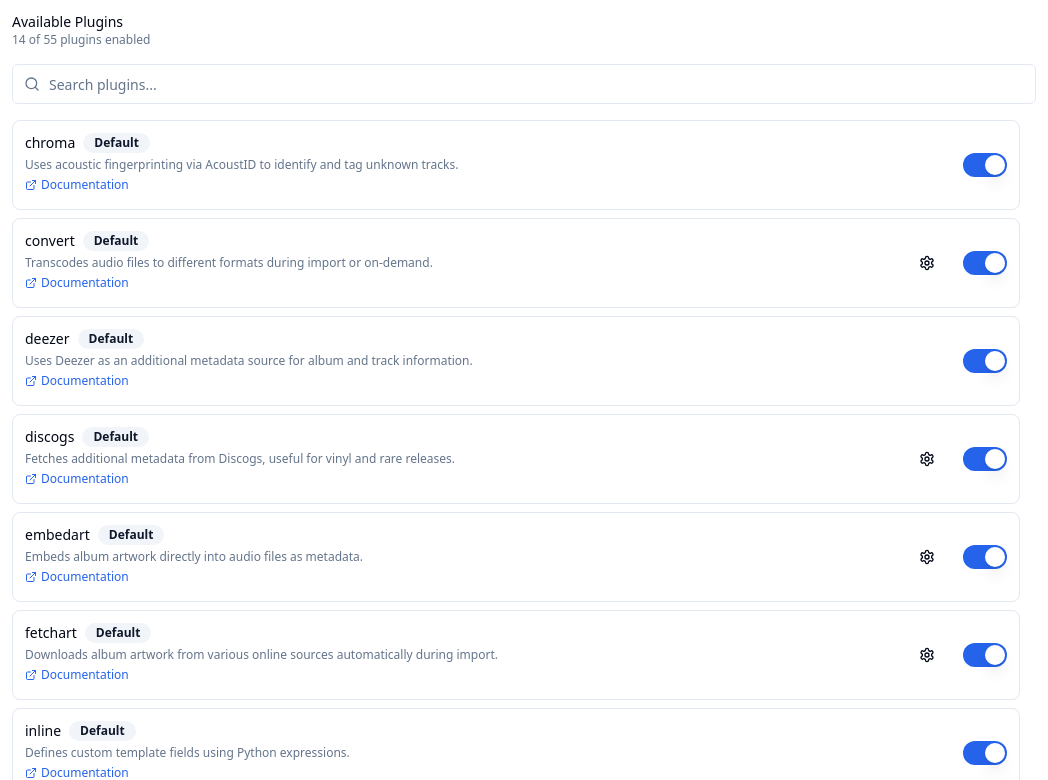
Test: PluginManager › search/filter › should show empty message when no plugins match
Type "xyznonexistent" into the field with placeholder "Search plugins..." at (524, 84), box [12,64,1036,104]
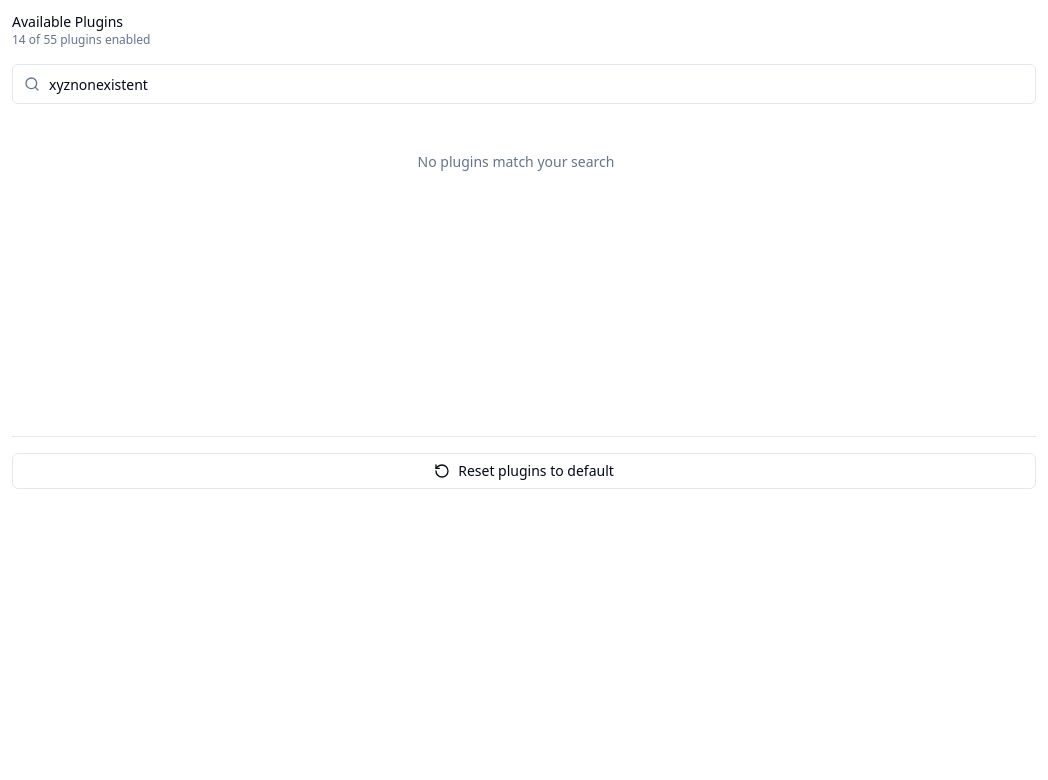
Now the text "No plugins match your search" is shown, box [418,152,614,171]
